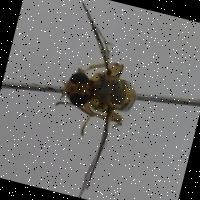Oriental-fruit-fly: (21, 0, 172, 200)
